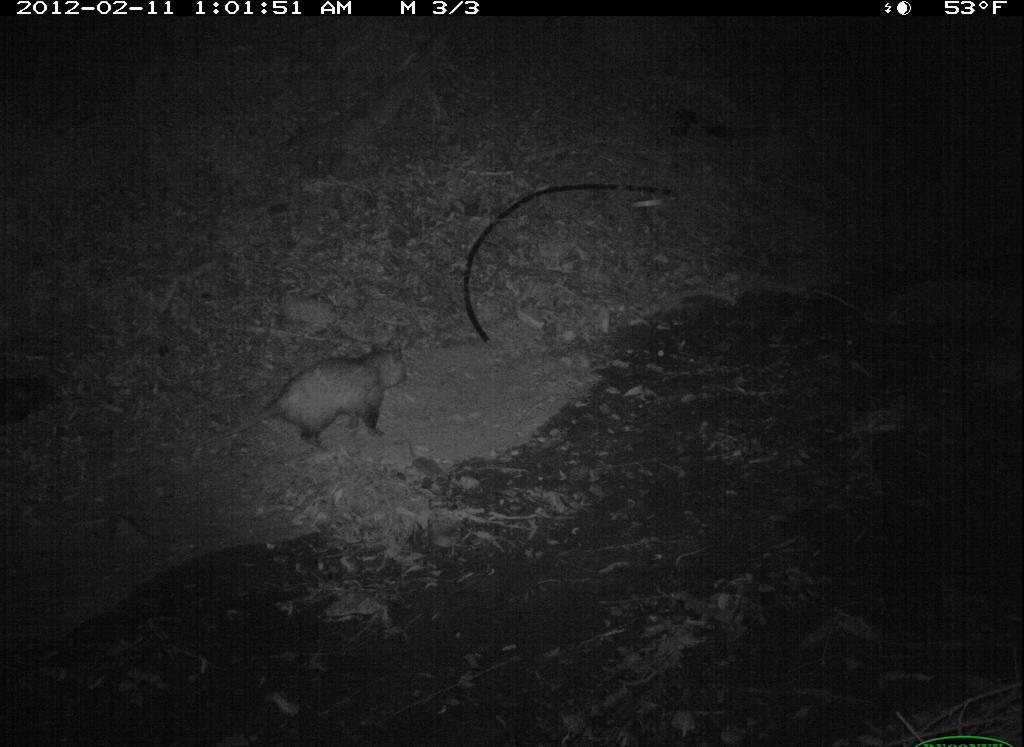opossum: (218, 331, 419, 466)
